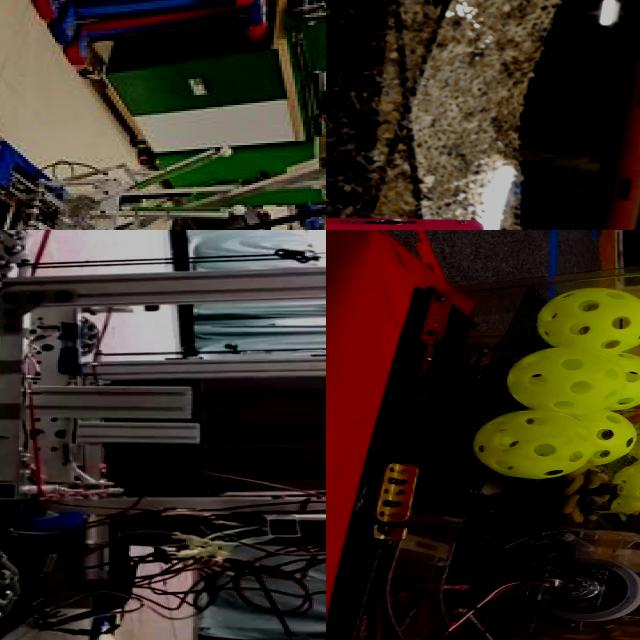FRC-Robots: (0, 230, 326, 640), (326, 230, 640, 640), (0, 99, 326, 230), (326, 151, 638, 230)
